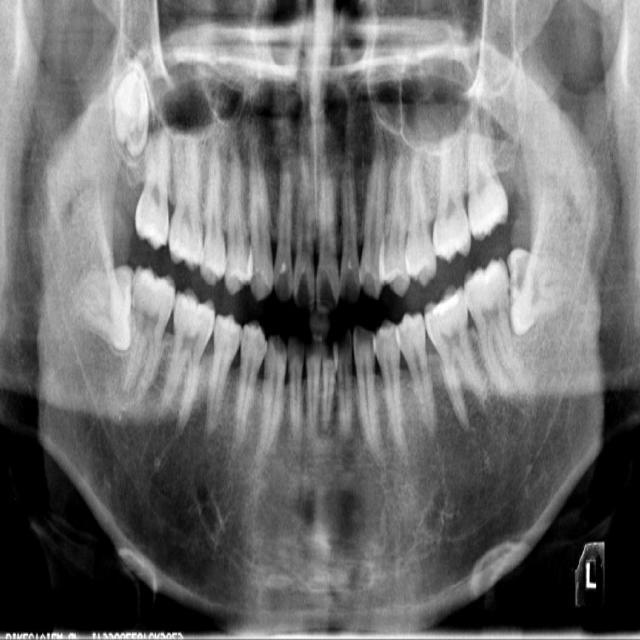3M ESPE Implant: (116, 57, 150, 154)
73: (587, 554, 589, 574)
BioHorizons Implant: (459, 96, 512, 240)
Biomet 3i Implant: (505, 248, 571, 336)
Blue Sky Bio Implant: (459, 259, 527, 398)
Caries: (132, 132, 174, 248)
Implant: (118, 266, 178, 411)
Keystone Dental Implant: (76, 263, 134, 356)
